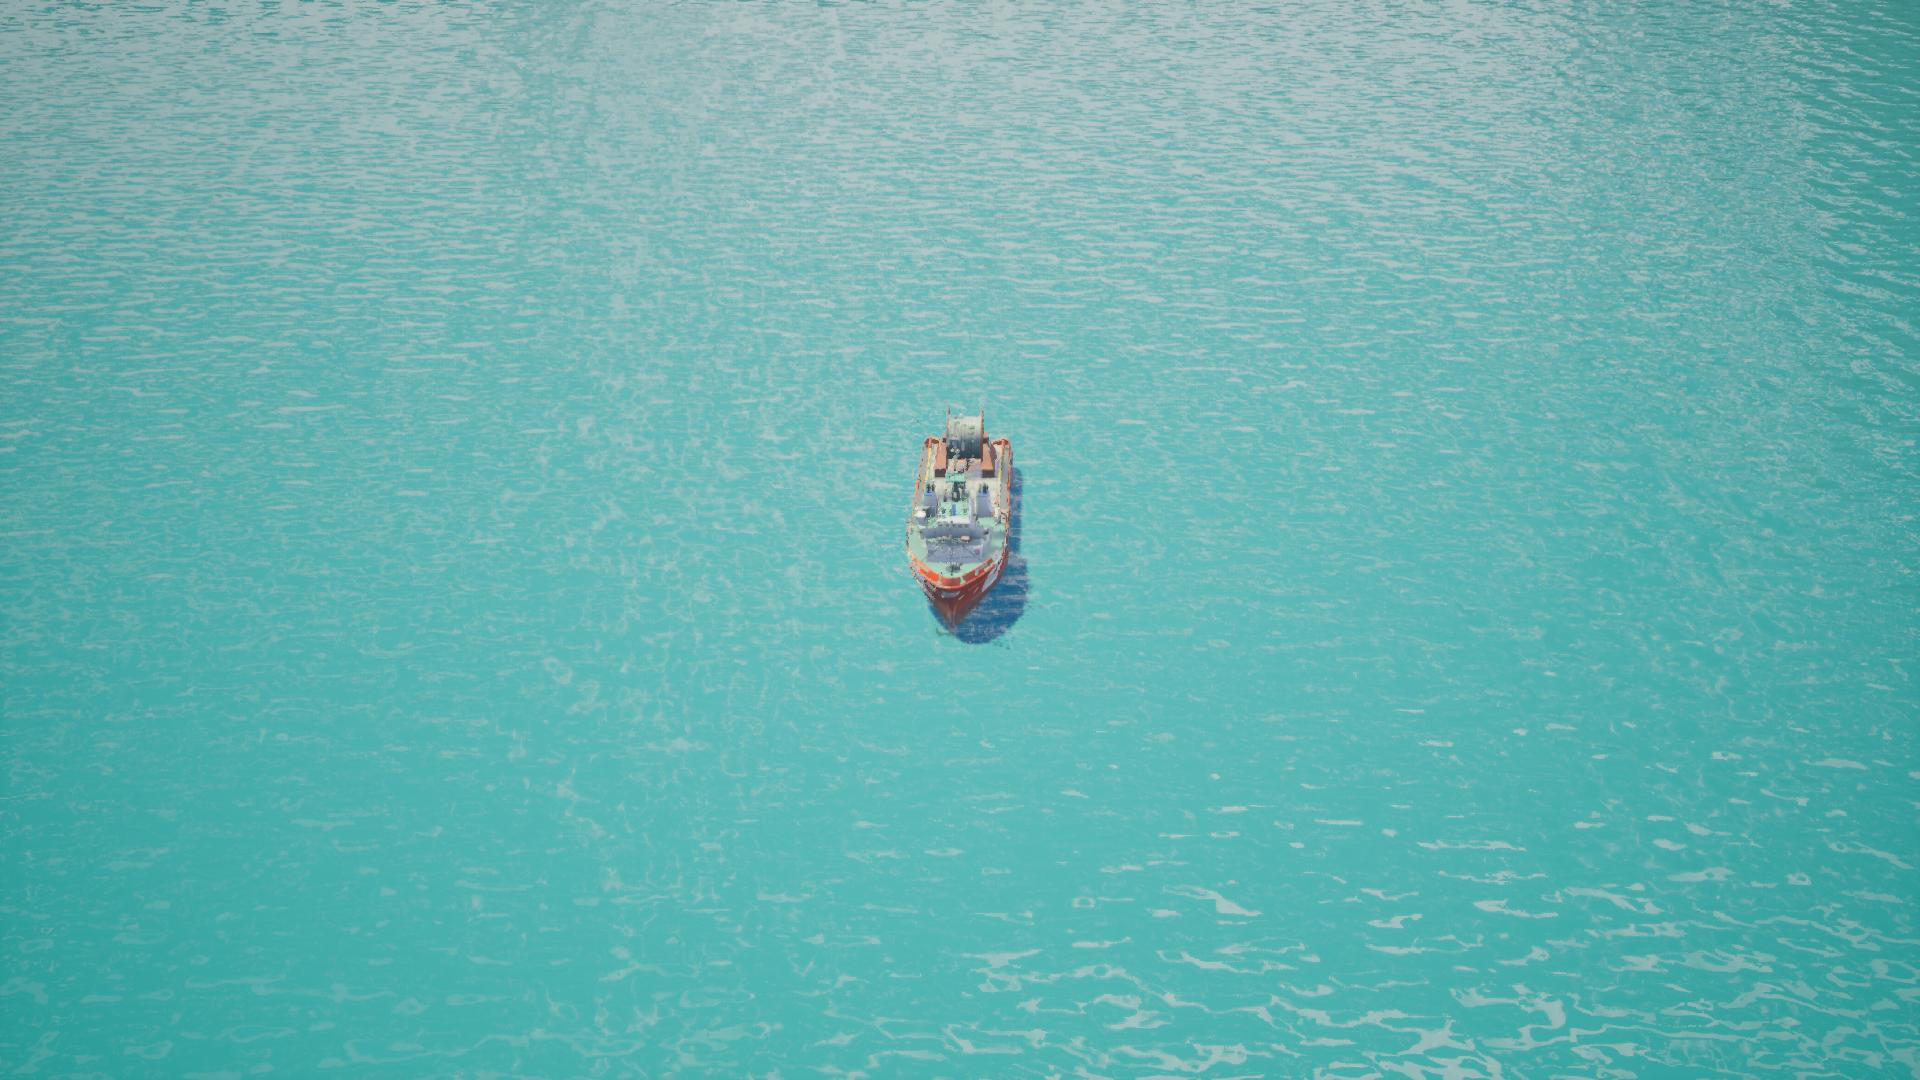Tug Boat: (900, 424, 1020, 643)
